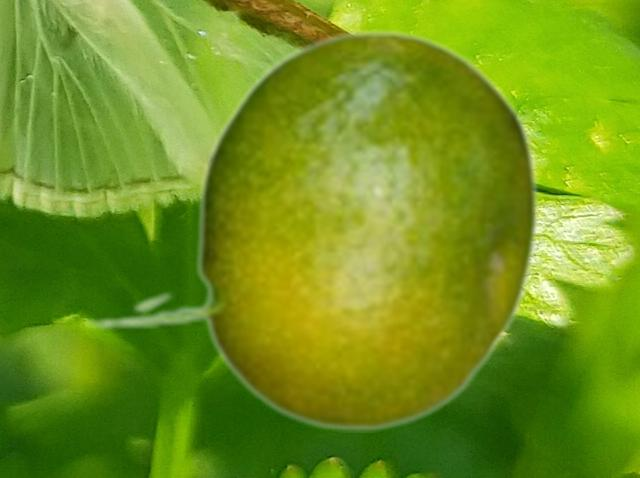calamansi: (82, 27, 539, 431)
